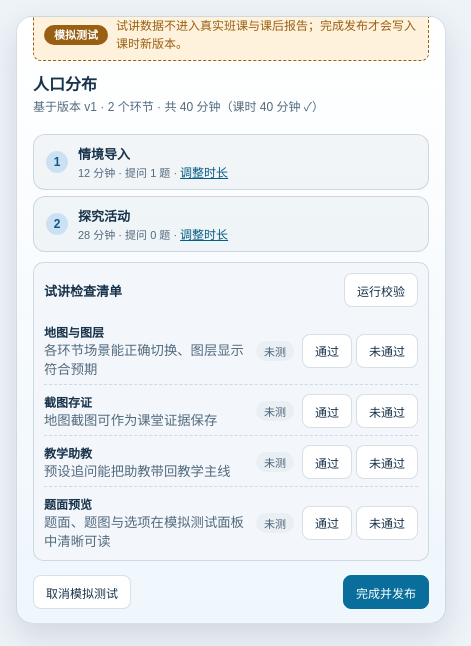
it: RehearsalPanel › completes the rehearsal and publishes the new lesson version
(page scrolled)
Click the button with test id "rehearsal-complete-button" at (386, 592), box [343, 575, 429, 609]
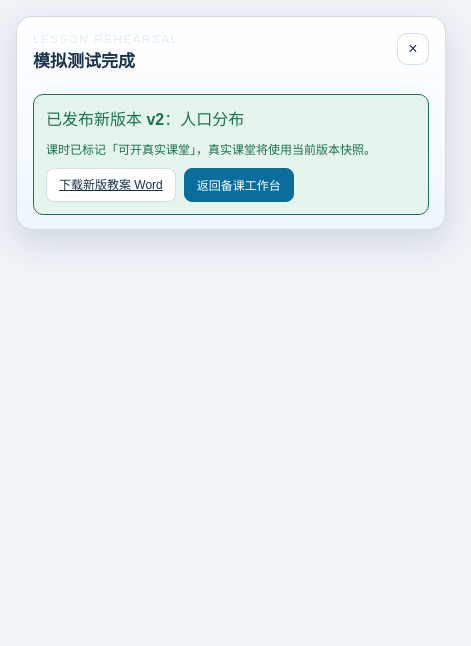
expect the element with test id "rehearsal-complete" shows "v2": met, box [33, 94, 429, 215]
